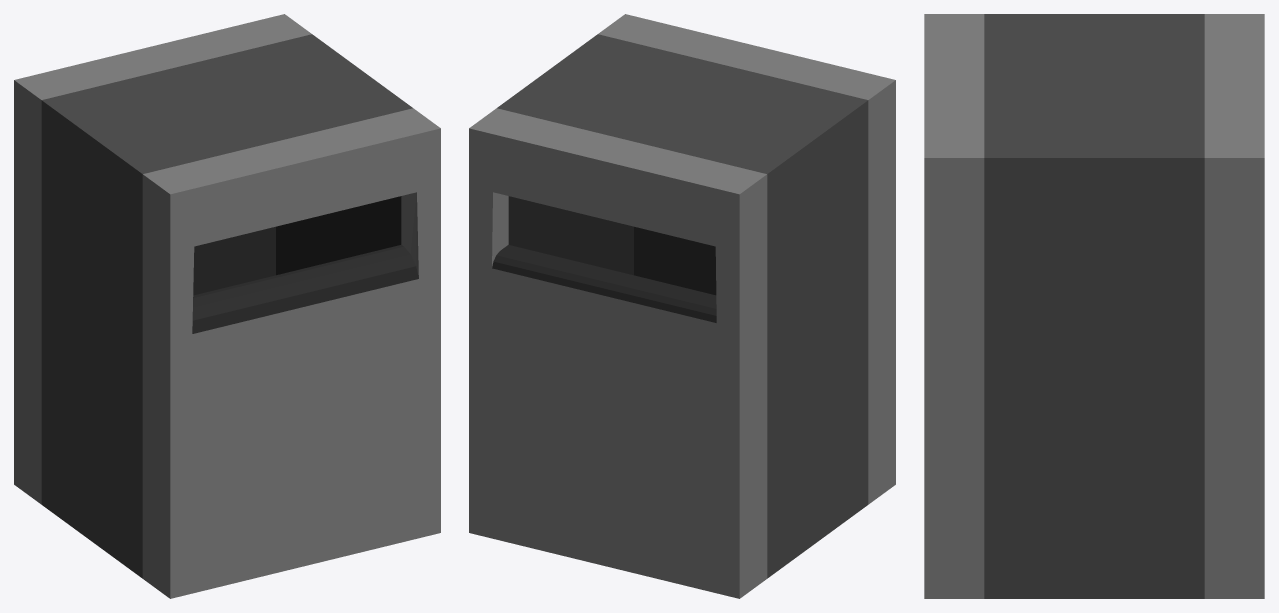
Rendered from TrashCan.fbx.
The picture shows the model from 3 angles, left to right: view 1: azimuth 30°, elevation 25°; view 2: azimuth 150°, elevation 25°; view 3: azimuth 270°, elevation 25°; orthographic projection. The views are drawn at different scales.
Visible parts, largest first — view 1: TrashCan; view 2: TrashCan; view 3: TrashCan.
Boxes of the visible parts, x1,y1,x2,y2 form: TrashCan: (14, 14, 440, 598); TrashCan: (469, 14, 895, 598); TrashCan: (924, 14, 1264, 598).
Bounding box in the file's own units: 65.52 × 93.6 × 65.52.
